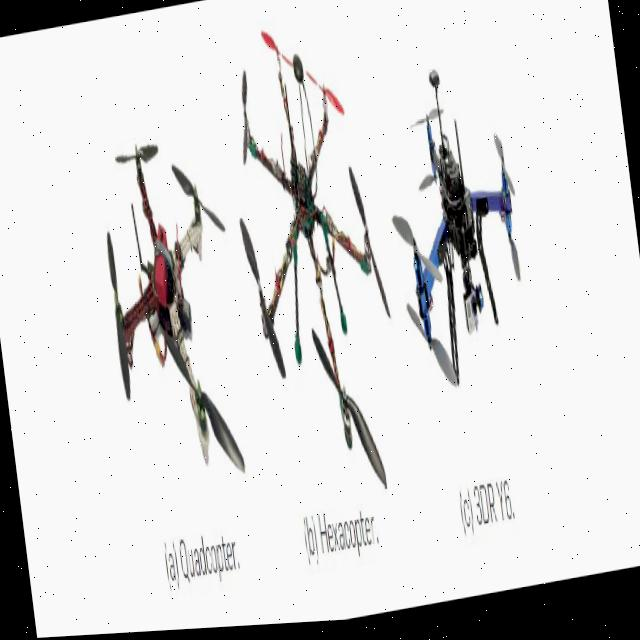drone: (70, 81, 256, 518)
